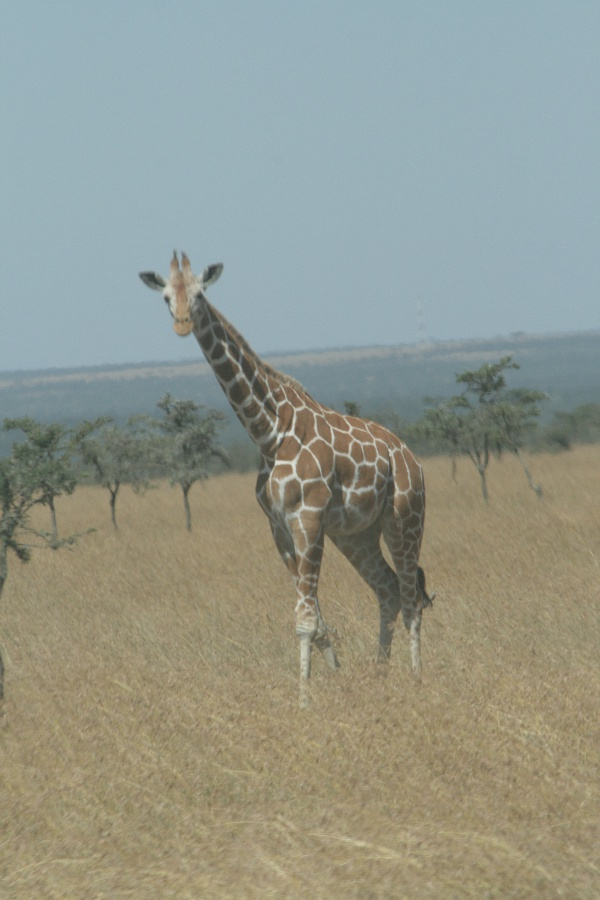giraffe: (135, 239, 451, 697)
